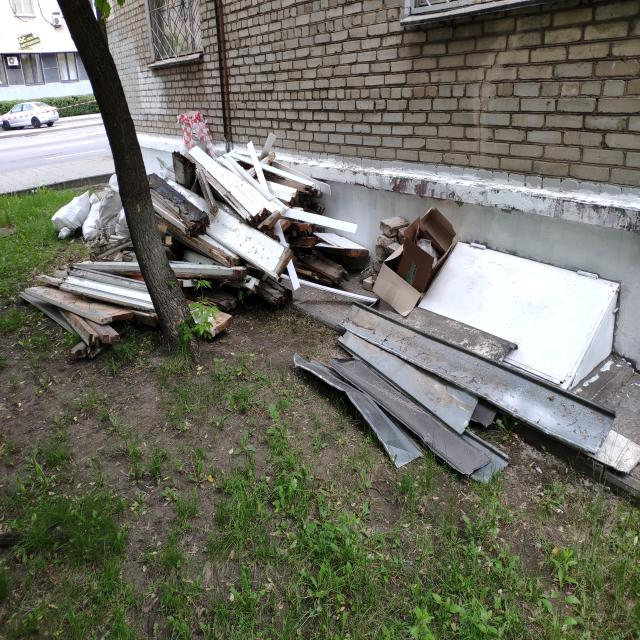entulho: (423, 245, 623, 389), (337, 320, 490, 485), (12, 252, 162, 365), (495, 364, 627, 474), (196, 133, 332, 230), (365, 204, 465, 329), (202, 203, 295, 283), (284, 203, 373, 263), (148, 174, 210, 240), (82, 176, 120, 238), (175, 260, 248, 284), (53, 192, 89, 240)
